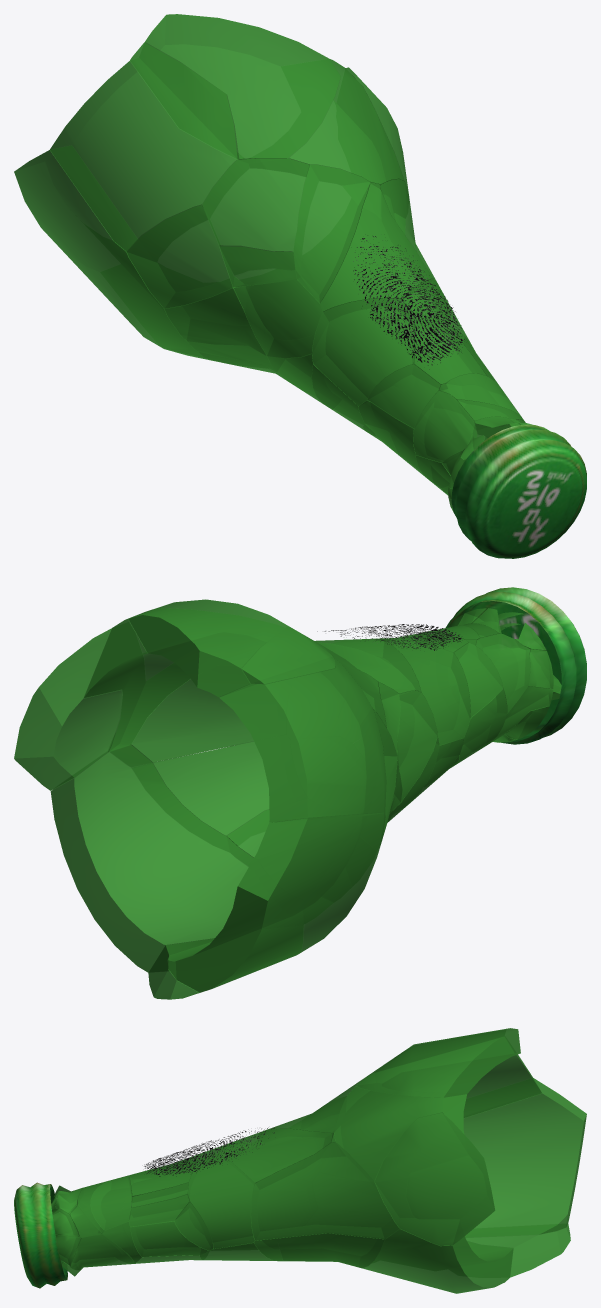
Rendered from fingerPrint2FBX_with_soju.fbx.
3 views of the same model, one above another, from view 1: azimuth 30°, elevation 25°; view 2: azimuth 150°, elevation 25°; view 3: azimuth 270°, elevation 25° (orthographic). The views are drawn at different scales.
Parts seen in each view (by area): view 1: Cylinder.002_cell.076; view 2: Cylinder.002_cell.076; view 3: Cylinder.002_cell.076.
Boxes of the visible parts, x1=… form: Cylinder.002_cell.076: x1=14, y1=14, x2=586, y2=558; Cylinder.002_cell.076: x1=14, y1=587, x2=586, y2=999; Cylinder.002_cell.076: x1=14, y1=1028, x2=586, y2=1293.
Bounding box in the file's own units: 155 × 163 × 350.
